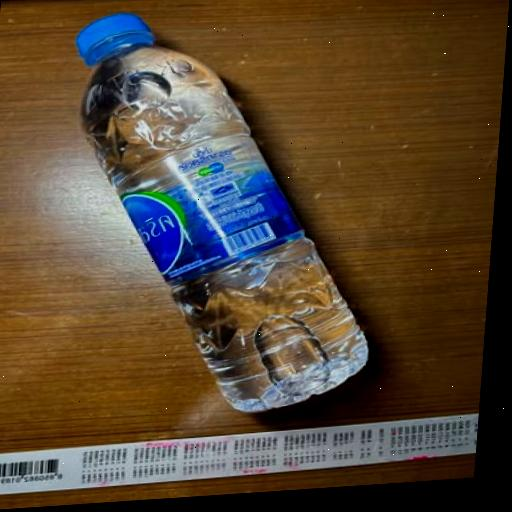ba: (0, 0, 424, 454)
